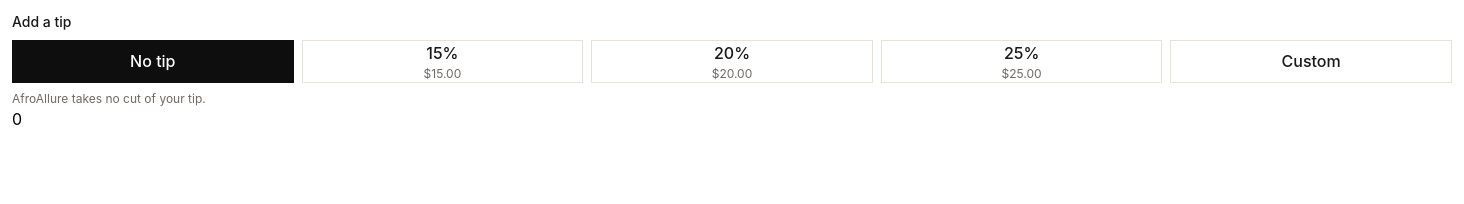
Scenario: TipPicker › never submits the payment form it sits in when applying a custom tip
Click the button "Custom" at (1311, 61), box [1170,40,1452,83]
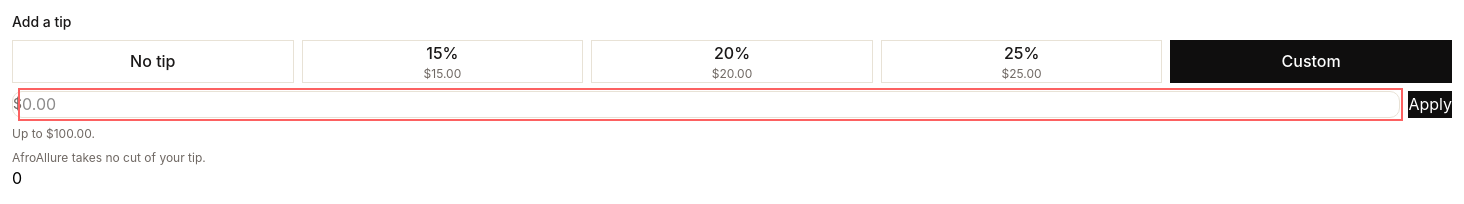
Type "5" into the field named "Custom tip in dollars" at (711, 104), box [22,92,1399,117]
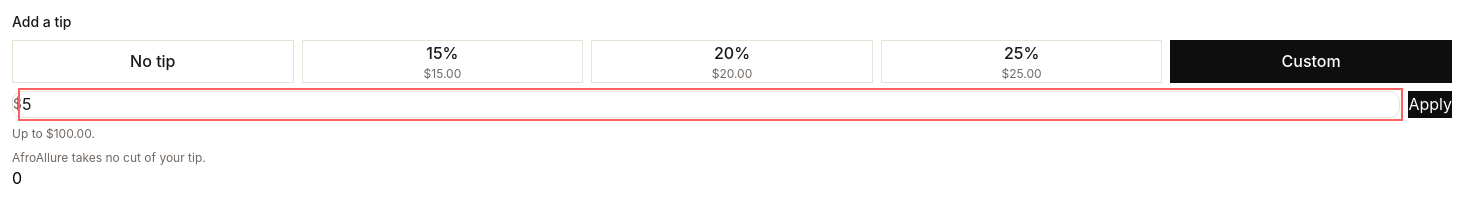
Press Enter in the field named "Custom tip in dollars", box [22,92,1399,117]
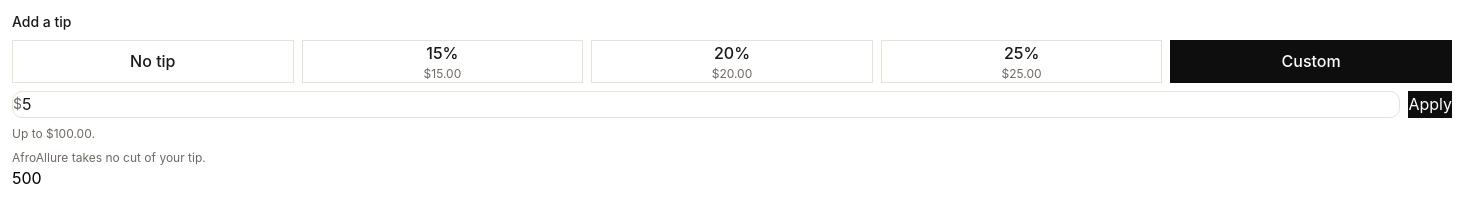
Now the text with test id "tip" reads "500", box [12,168,42,188]
Replace the text in the field named "Custom tip in dollars" with "7" at (711, 104), box [22,92,1399,117]
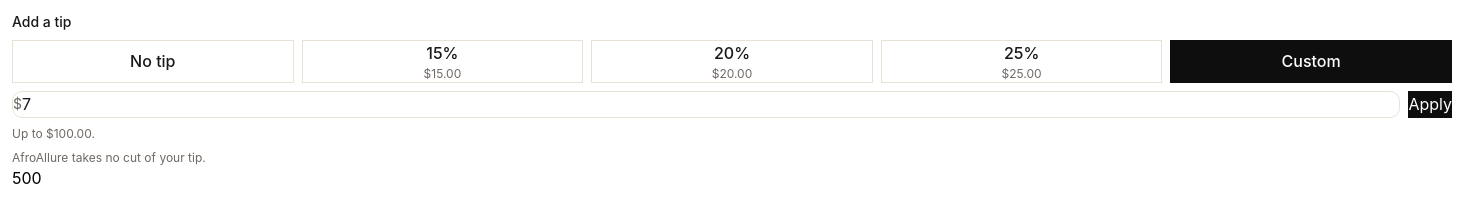
Click the button "Apply" at (1430, 104), box [1408,91,1452,118]
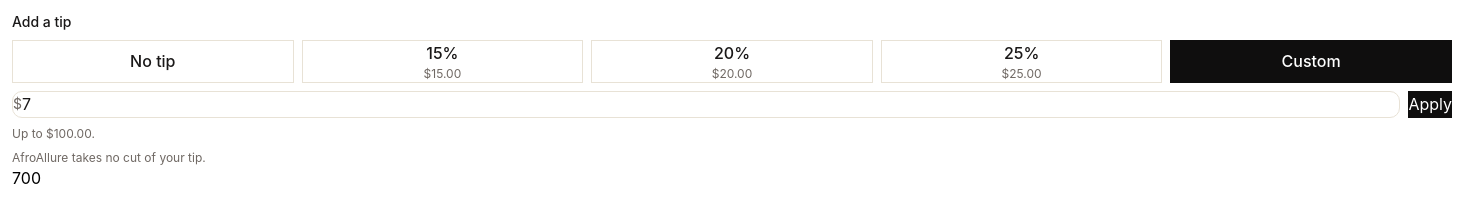
Now the text with test id "tip" reads "700", box [12,168,41,188]
